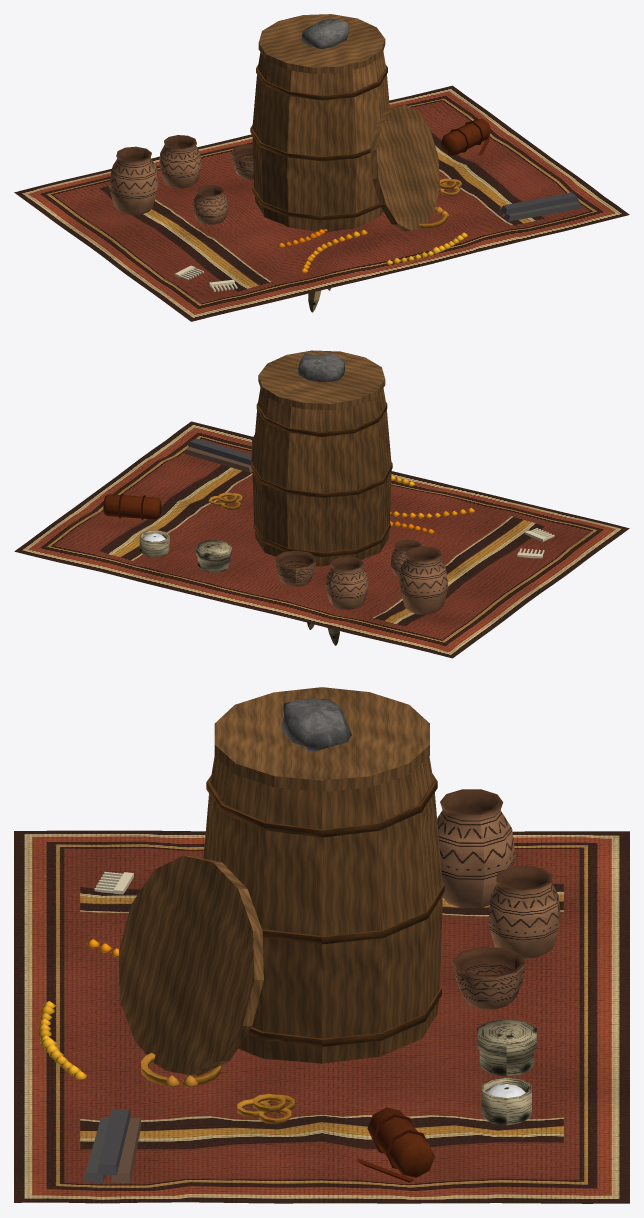
File: market_goods.glb
The picture shows the model from 3 angles, top to bottom: view 1: azimuth 30°, elevation 25°; view 2: azimuth 150°, elevation 25°; view 3: azimuth 270°, elevation 25°; orthographic projection. The views are drawn at different scales.
Visible parts, largest first — view 1: maavaate, tynnyri_kiinni, tynnyri_suolakala; view 2: maavaate, tynnyri_kiinni; view 3: maavaate, tynnyri_kiinni, tynnyri_suolakala.
Part boxes in pixels (x1,y1,x2,y2): maavaate: (14,85,629,321); tynnyri_kiinni: (250,14,389,232); tynnyri_suolakala: (370,104,440,231); maavaate: (14,421,629,658); tynnyri_kiinni: (251,350,392,566); maavaate: (14,789,629,1203); tynnyri_kiinni: (203,687,444,1063); tynnyri_suolakala: (119,855,263,1075).
Bounding box in the file's own units: 2 × 1.24 × 1.4.
Materials: 13 (13 with a texture image).
